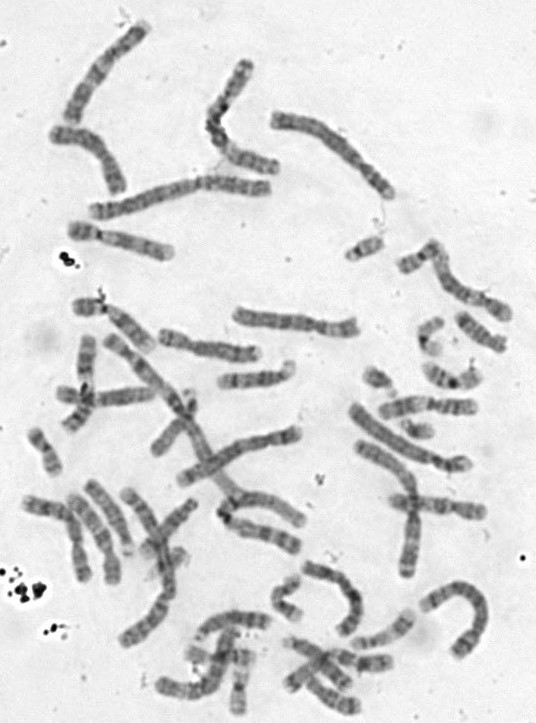chromosomes: (103, 329, 244, 500), (268, 103, 406, 209), (200, 49, 292, 183), (350, 433, 427, 586), (59, 15, 158, 131), (341, 399, 481, 481), (171, 420, 310, 495), (119, 485, 179, 656), (82, 176, 277, 224), (7, 488, 96, 593), (214, 485, 321, 563), (149, 621, 246, 703), (415, 573, 496, 670), (42, 115, 130, 203), (431, 243, 523, 327), (273, 644, 402, 701), (296, 557, 373, 645), (225, 300, 371, 345), (63, 488, 127, 590), (68, 291, 165, 358), (60, 217, 184, 266), (275, 634, 366, 695), (138, 488, 206, 564), (57, 331, 103, 438), (88, 474, 142, 564), (371, 390, 494, 429), (158, 324, 267, 367), (145, 381, 202, 461), (209, 353, 306, 399), (379, 490, 499, 526), (187, 603, 288, 643), (39, 379, 168, 410), (14, 420, 70, 486), (348, 605, 422, 654), (418, 354, 500, 398), (451, 307, 516, 362), (301, 674, 365, 722), (177, 642, 265, 676), (262, 568, 311, 628), (400, 309, 454, 362), (389, 234, 445, 281), (140, 542, 192, 591), (339, 231, 389, 273), (358, 363, 404, 400), (394, 410, 442, 445), (226, 666, 256, 722)
